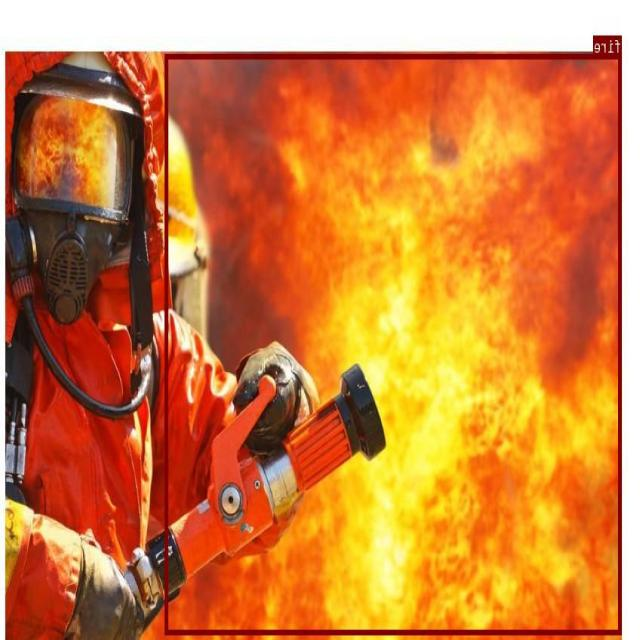fire: (166, 53, 622, 634)
